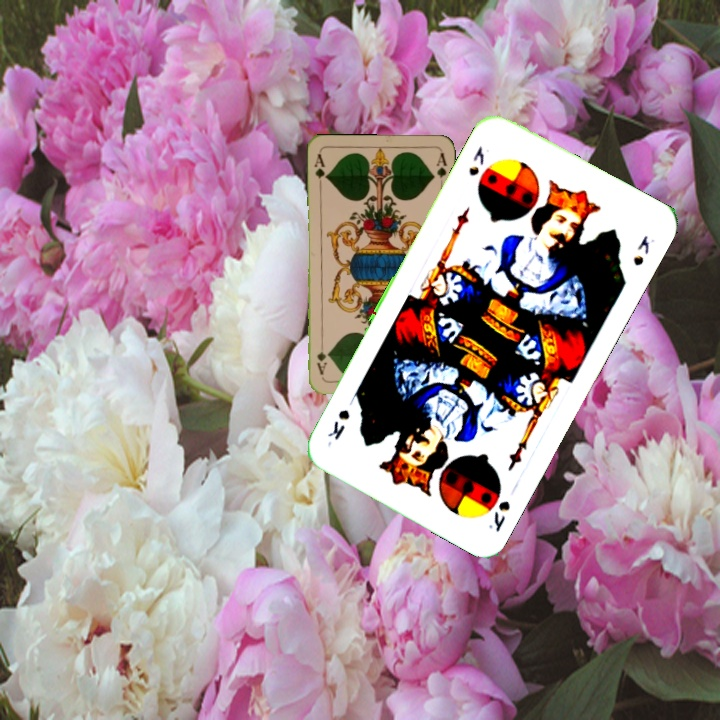GA: (310, 150, 330, 190)
SK: (484, 496, 513, 535), (464, 141, 487, 179)
